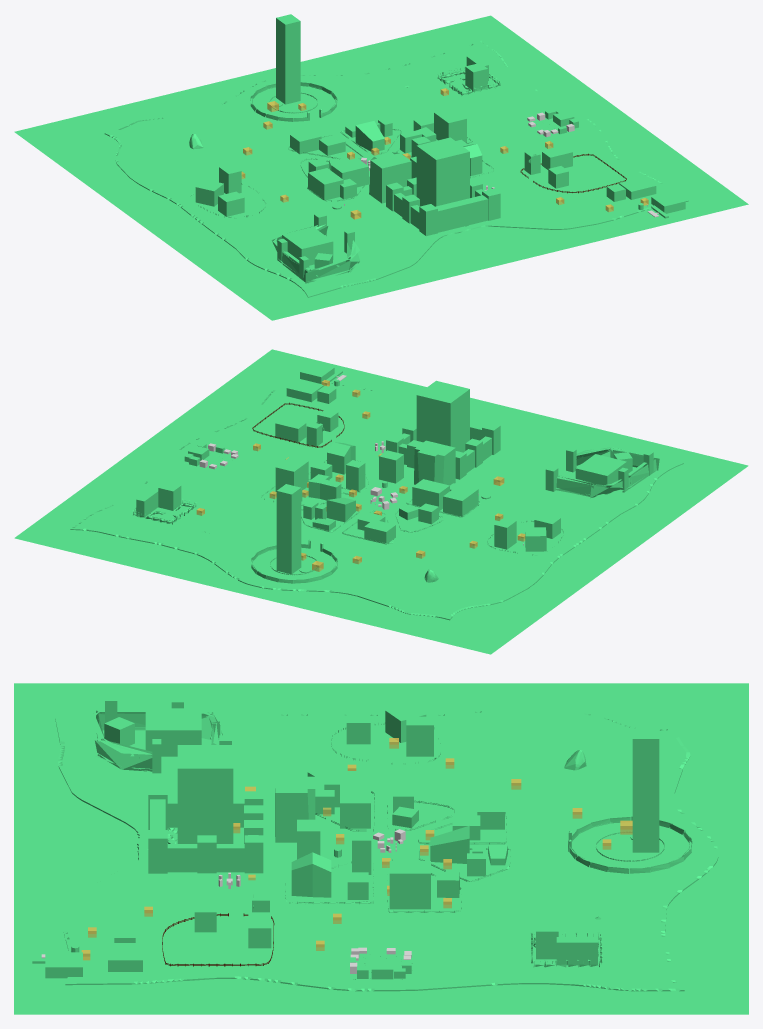
The picture shows the model from 3 angles, top to bottom: view 1: azimuth 30°, elevation 25°; view 2: azimuth 150°, elevation 25°; view 3: azimuth 270°, elevation 25°; orthographic projection. The views are drawn at different scales.
Parts seen in each view (by area): view 1: COL_Ground, COL_Water, COL_WonderWalls_SecondAge, COL_Temple_SecondAge_Level2, COL_House_3.001, COL_Barracks_SecondAge_Level3, COL_Wall_SecondAge.002, COL_Barracks_FirstAge_Level2.001, COL_Inn, COL_Stable.001, COL_Houses_SecondAge_2_Level2.002, COL_Houses_SecondAge_2_Level2.001 (+9 smaller); view 2: COL_Ground, COL_Water, COL_Temple_SecondAge_Level2, COL_WonderWalls_SecondAge, COL_House_3.001, COL_Wall_SecondAge.002, COL_Barracks_SecondAge_Level3, COL_Barracks_FirstAge_Level2.001, COL_Inn, COL_Stable.001, COL_Houses_SecondAge_2_Level2.002, COL_TowerHouse_SecondAge (+12 smaller); view 3: COL_Ground, COL_Water, COL_WonderWalls_SecondAge, COL_Temple_SecondAge_Level2, COL_House_3.001, COL_Wall_SecondAge.002, COL_Barracks_SecondAge_Level3, COL_Barracks_FirstAge_Level2.001, COL_Inn, COL_Houses_SecondAge_2_Level2, COL_Wall_SecondAge, COL_Houses_SecondAge_2_Level2.002 (+18 smaller).
Part boxes in pixels (<box>): COL_Ground: <box>104,39,688,297</box>; COL_Water: <box>14,15,748,320</box>; COL_WonderWalls_SecondAge: <box>386,177,500,236</box>; COL_Temple_SecondAge_Level2: <box>416,137,469,206</box>; COL_House_3.001: <box>276,14,300,104</box>; COL_Barracks_SecondAge_Level3: <box>369,152,411,203</box>; COL_Wall_SecondAge.002: <box>271,224,360,283</box>; COL_Barracks_FirstAge_Level2.001: <box>282,227,333,265</box>; COL_Inn: <box>434,108,466,142</box>; COL_Stable.001: <box>308,168,343,200</box>; COL_Houses_SecondAge_2_Level2.002: <box>331,158,368,187</box>; COL_Houses_SecondAge_2_Level2.001: <box>355,121,384,151</box>; COL_Ground: <box>70,372,683,620</box>; COL_Water: <box>14,349,748,654</box>; COL_Temple_SecondAge_Level2: <box>416,380,469,452</box>; COL_WonderWalls_SecondAge: <box>386,422,500,479</box>; COL_House_3.001: <box>276,484,301,574</box>; COL_Wall_SecondAge.002: <box>556,447,659,498</box>; COL_Barracks_SecondAge_Level3: <box>414,440,455,485</box>; COL_Barracks_FirstAge_Level2.001: <box>575,454,626,494</box>; COL_Inn: <box>275,456,308,491</box>; COL_Stable.001: <box>443,484,478,516</box>; COL_Houses_SecondAge_2_Level2.002: <box>412,479,449,511</box>; COL_TowerHouse_SecondAge: <box>379,450,403,483</box>; COL_Ground: <box>55,709,718,991</box>; COL_Water: <box>14,683,748,1014</box>; COL_WonderWalls_SecondAge: <box>148,786,263,873</box>; COL_Temple_SecondAge_Level2: <box>177,745,233,843</box>; COL_House_3.001: <box>632,728,659,852</box>; COL_Wall_SecondAge.002: <box>87,709,222,771</box>; COL_Barracks_SecondAge_Level3: <box>275,772,315,842</box>; COL_Barracks_FirstAge_Level2.001: <box>145,708,201,756</box>; COL_Inn: <box>389,861,430,909</box>; COL_Houses_SecondAge_2_Level2: <box>291,852,331,897</box>; COL_Wall_SecondAge: <box>569,816,692,873</box>; COL_Houses_SecondAge_2_Level2.002: <box>340,784,370,828</box>.
Bounding box in the file's own units: 320 × 54.35 × 300.
3 materials, 1 textured.
